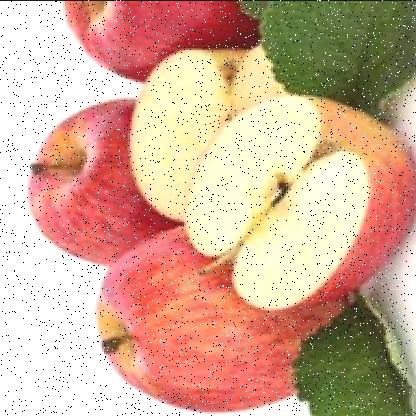apple: (100, 231, 356, 408), (20, 92, 178, 262), (54, 2, 234, 82)
damaged_apple: (180, 96, 406, 316), (132, 43, 284, 228)
